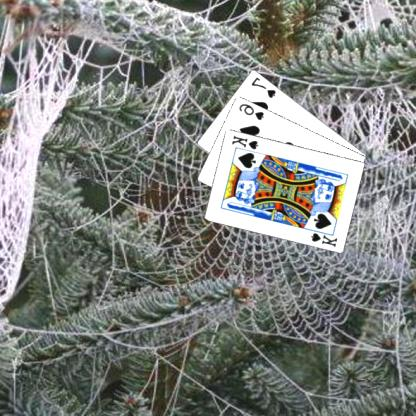6S: (238, 100, 267, 122)
7S: (250, 74, 279, 99)
KS: (309, 226, 340, 248), (230, 132, 262, 151)
